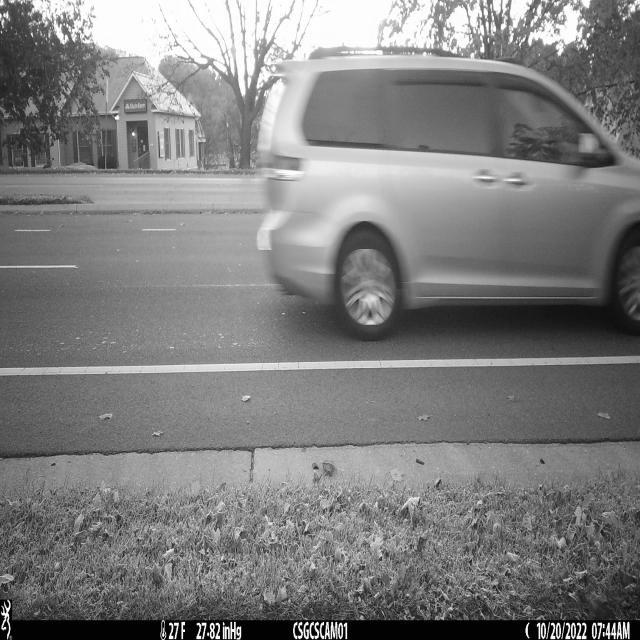Van: (256, 51, 640, 342)
